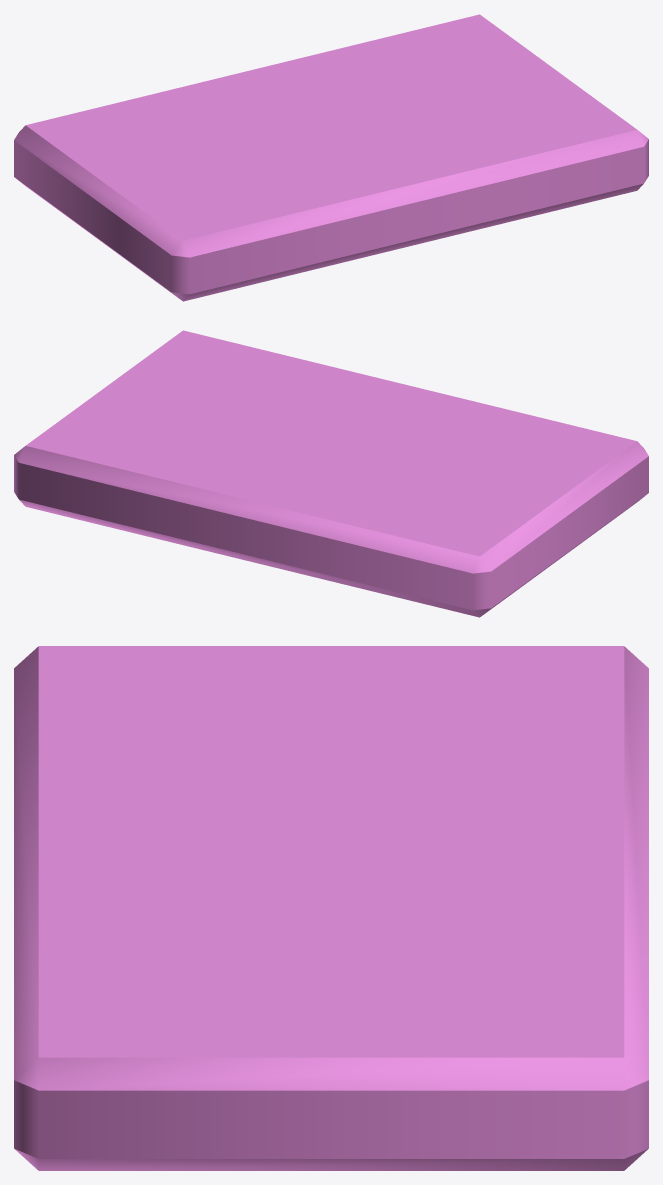
The model's file is Organic Plate.fbx.
3 renders of one model, top to bottom at view 1: azimuth 30°, elevation 25°; view 2: azimuth 150°, elevation 25°; view 3: azimuth 270°, elevation 25°, orthographic. The views are drawn at different scales.
Parts seen in each view (by area): view 1: Cube; view 2: Cube; view 3: Cube.
Part boxes in pixels (bbox=[...]): Cube: bbox=[14, 14, 648, 301]; Cube: bbox=[14, 330, 648, 617]; Cube: bbox=[14, 646, 648, 1170].
Bounding box in the file's own units: 16.12 × 1.97 × 10.
